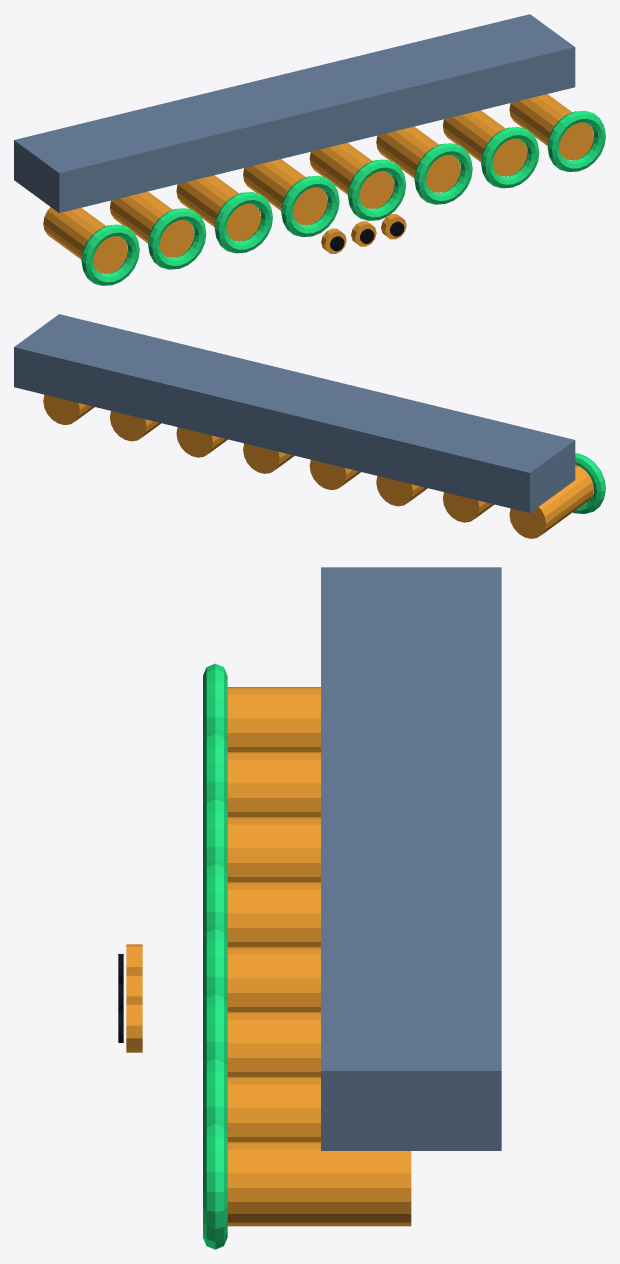
The model's file is 61_L89_ShieldLockingPinArray.fbx.
The picture shows the model from 3 angles, top to bottom: view 1: azimuth 30°, elevation 25°; view 2: azimuth 150°, elevation 25°; view 3: azimuth 270°, elevation 25°; orthographic projection. The views are drawn at different scales.
Parts seen in each view (by area): view 1: L87_ShieldLockingPinArray_Part_0000, L87_ShieldLockingPinArray_Part_0001, L87_ShieldLockingPinArray_Part_0003, L87_ShieldLockingPinArray_Part_0002, L87_ShieldLockingPinArray_Part_0004; view 2: L87_ShieldLockingPinArray_Part_0000, L87_ShieldLockingPinArray_Part_0001, L87_ShieldLockingPinArray_Part_0003, L87_ShieldLockingPinArray_Part_0002; view 3: L87_ShieldLockingPinArray_Part_0000, L87_ShieldLockingPinArray_Part_0003, L87_ShieldLockingPinArray_Part_0001, L87_ShieldLockingPinArray_Part_0004, L87_ShieldLockingPinArray_Part_0002.
Boxes of the visible parts, <box> form: L87_ShieldLockingPinArray_Part_0000: <box>14,14,575,212</box>; L87_ShieldLockingPinArray_Part_0001: <box>43,159,327,273</box>; L87_ShieldLockingPinArray_Part_0003: <box>309,94,593,208</box>; L87_ShieldLockingPinArray_Part_0002: <box>81,175,339,285</box>; L87_ShieldLockingPinArray_Part_0004: <box>347,110,605,220</box>; L87_ShieldLockingPinArray_Part_0000: <box>14,314,575,512</box>; L87_ShieldLockingPinArray_Part_0001: <box>309,459,593,538</box>; L87_ShieldLockingPinArray_Part_0003: <box>43,394,294,473</box>; L87_ShieldLockingPinArray_Part_0002: <box>573,453,605,513</box>; L87_ShieldLockingPinArray_Part_0000: <box>321,567,501,1150</box>; L87_ShieldLockingPinArray_Part_0003: <box>227,947,411,1226</box>; L87_ShieldLockingPinArray_Part_0001: <box>227,687,320,946</box>; L87_ShieldLockingPinArray_Part_0004: <box>203,923,227,1249</box>; L87_ShieldLockingPinArray_Part_0002: <box>203,663,227,935</box>.
Size of the model in its own units: 314 by 58 by 99.7.
